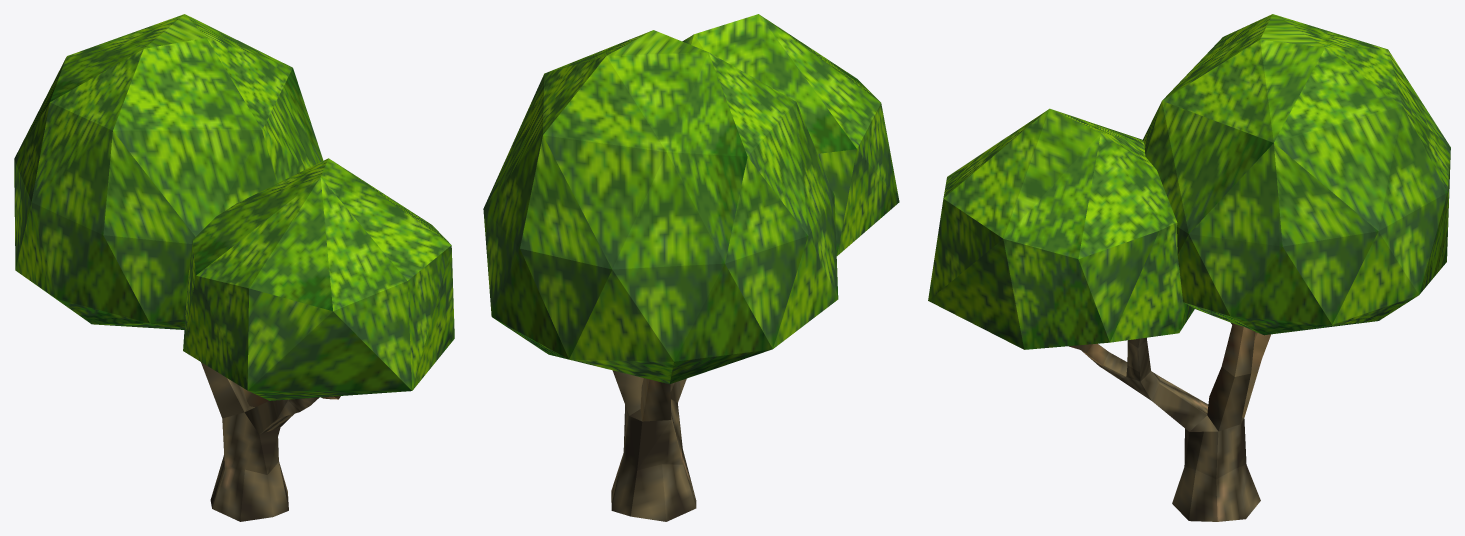
Rendered from Poly_Tree_01_B.obj.
3 renders of one model, left to right at view 1: azimuth 30°, elevation 25°; view 2: azimuth 150°, elevation 25°; view 3: azimuth 270°, elevation 25°, orthographic. The views are drawn at different scales.
Parts seen in each view (by area): view 1: Icosphere.001, Icosphere.002, Plane; view 2: Icosphere.001, Icosphere.002, Plane; view 3: Icosphere.001, Icosphere.002, Plane.
Part boxes in pixels (left/top/right/bottom): Icosphere.001: left=14, top=14, right=323, bottom=329; Icosphere.002: left=183, top=158, right=454, bottom=400; Plane: left=201, top=362, right=340, bottom=521; Icosphere.001: left=483, top=30, right=838, bottom=384; Icosphere.002: left=682, top=14, right=899, bottom=255; Plane: left=611, top=370, right=696, bottom=521; Icosphere.001: left=1143, top=14, right=1450, bottom=335; Icosphere.002: left=928, top=108, right=1194, bottom=349; Plane: left=1069, top=323, right=1270, bottom=521.
Bounding box in the file's own units: 2.64 × 3.92 × 4.05.
1 material, 1 textured.
